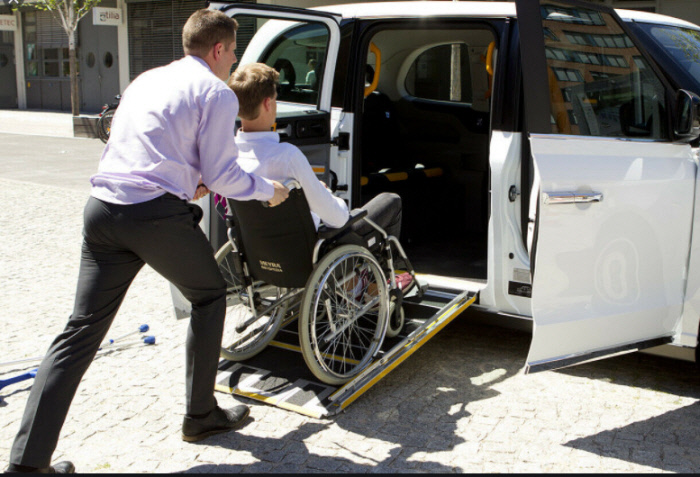wheelchair: (219, 63, 429, 385)
